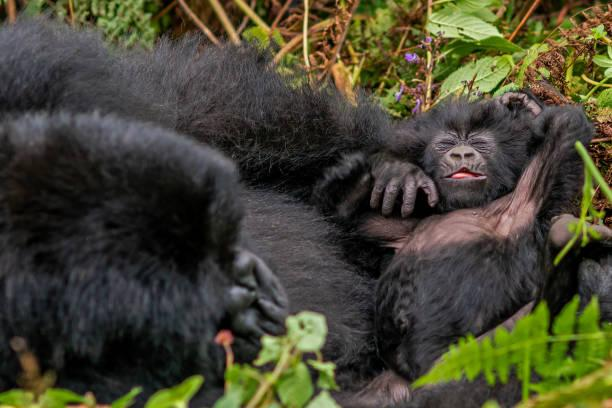goriile_montagne: (6, 3, 612, 365)
